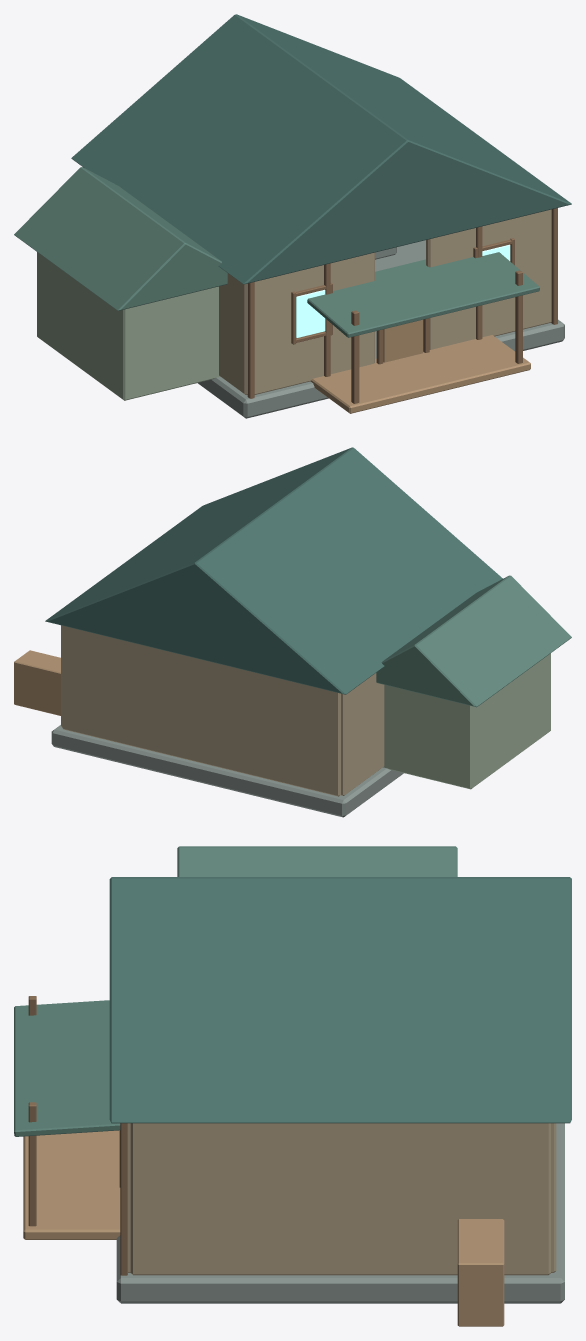
Rendered from LumenCroftCottageB.glb.
3 views of the same model, one above another, from view 1: azimuth 30°, elevation 25°; view 2: azimuth 150°, elevation 25°; view 3: azimuth 270°, elevation 25° (orthographic). The views are drawn at different scales.
Visible parts, largest first — view 1: LumenCroftCottageB; view 2: LumenCroftCottageB; view 3: LumenCroftCottageB.
Boxes of the visible parts, <box> form: LumenCroftCottageB: <box>14,14,571,418</box>; LumenCroftCottageB: <box>14,447,571,817</box>; LumenCroftCottageB: <box>14,846,571,1326</box>.
Bounding box in the file's own units: 32.19 × 15.26 × 23.9.
